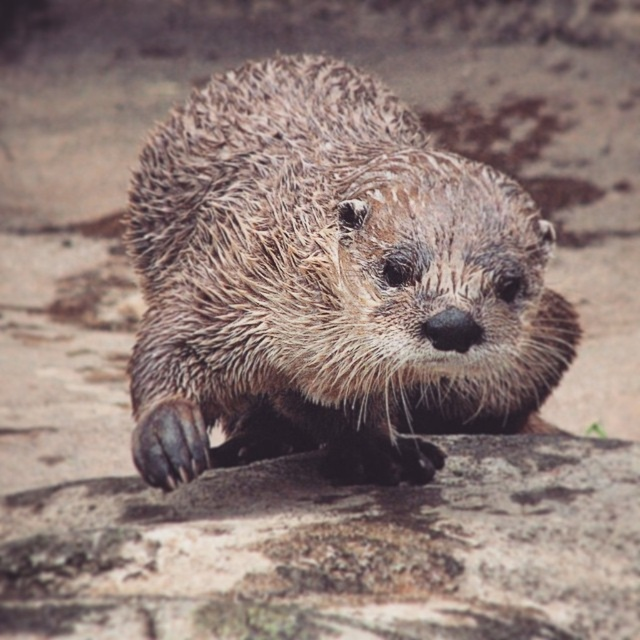Hedgehog: (118, 49, 589, 493)
